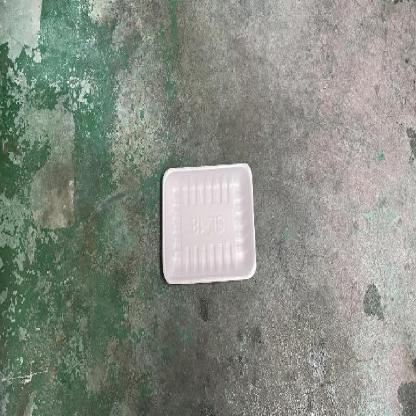Glass Cup: (162, 163, 257, 285), (163, 162, 257, 285)
